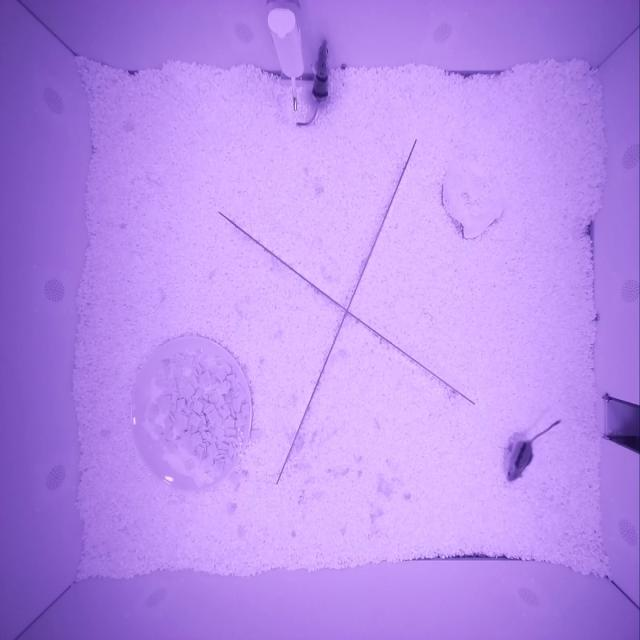pup_h_stripe: (311, 39, 332, 102)
pup_v_stripe: (507, 440, 534, 481)
